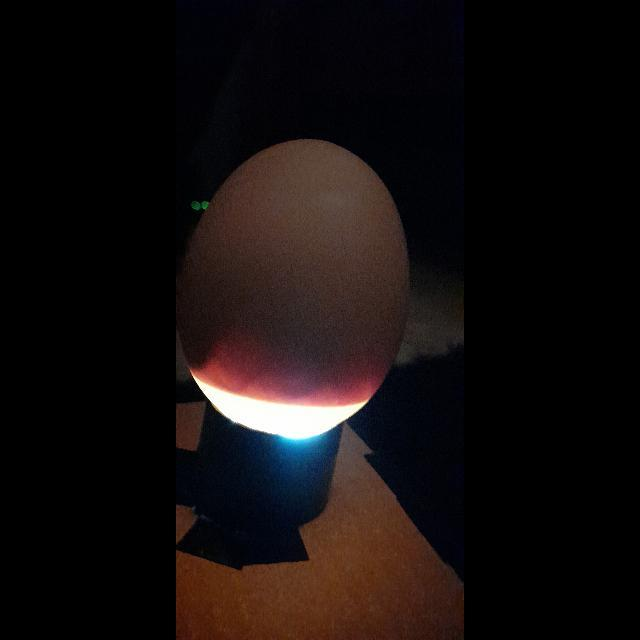Fertile: (183, 135, 405, 437)
